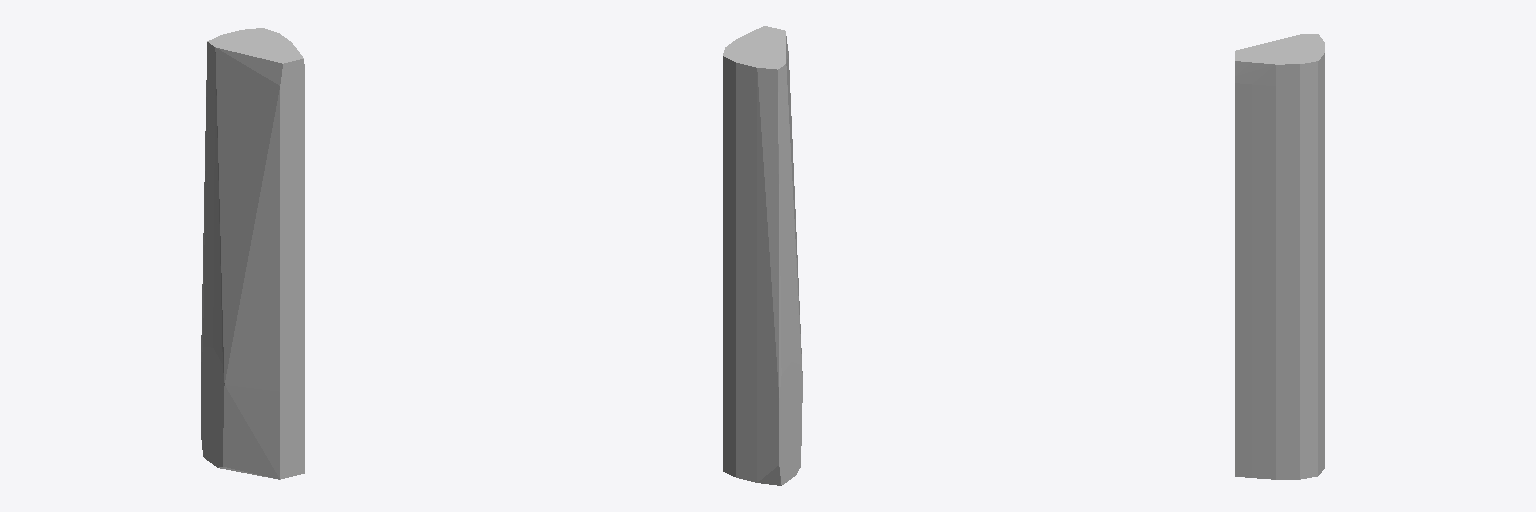
The model's file is work_bench_collision_13.obj.
3 views of the same model, side by side, from view 1: azimuth 30°, elevation 25°; view 2: azimuth 150°, elevation 25°; view 3: azimuth 270°, elevation 25° (orthographic).
Bounding box in the file's own units: 0.0588 × 0.3511 × 0.069.